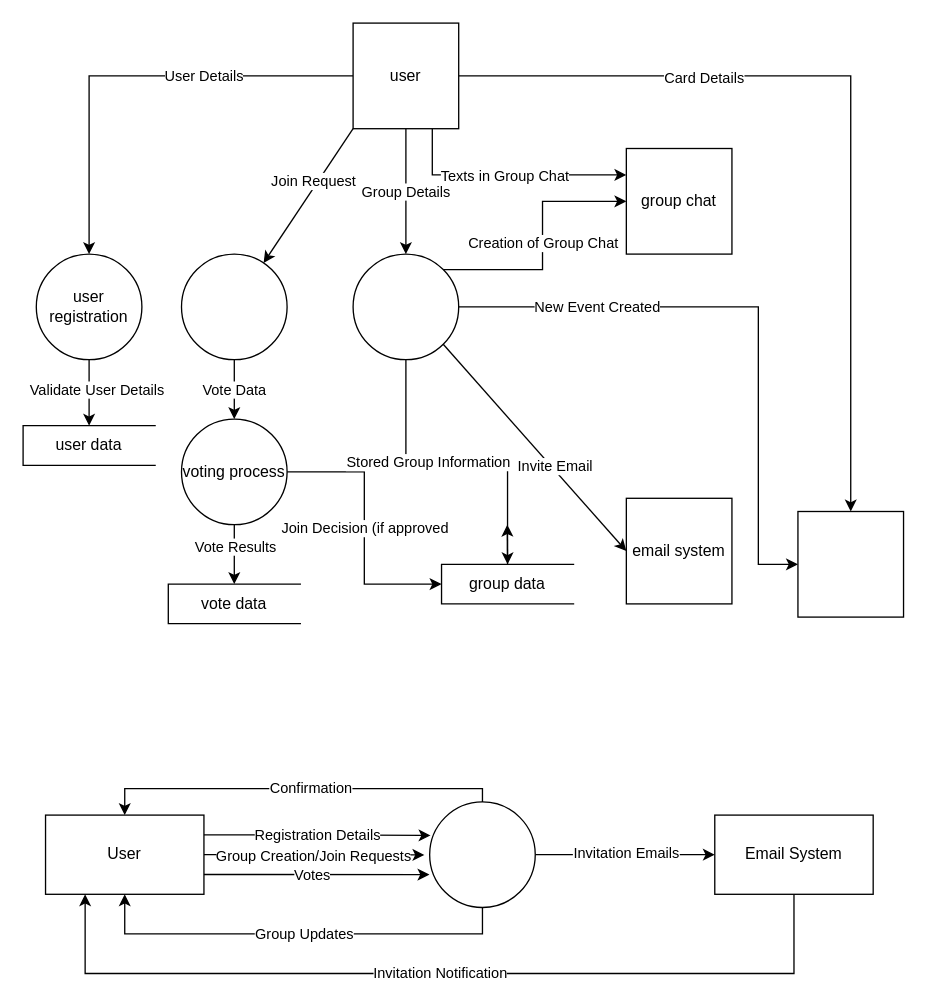
The diagram is 927 pixels wide and 1007 high, and some of its shapes have lost their labels. Here are the shapes that lost their labels. From the top down, the centre of each, then its label:
the point at 233,306: join request management
the point at 405,306: group creation
the point at 850,563: payment details
the point at 481,854: Chipin App
